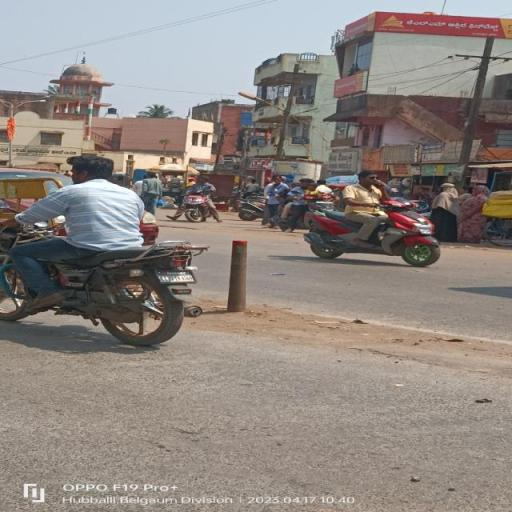bike: (0, 150, 214, 347)
withouthelmet: (68, 156, 112, 182)
